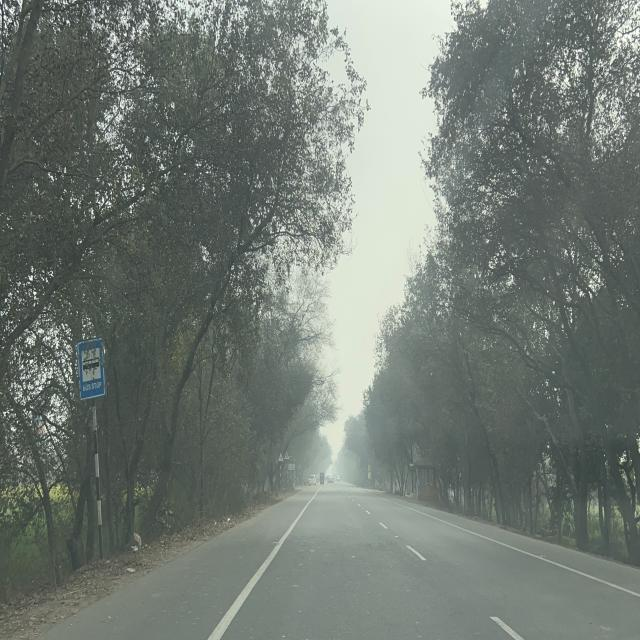INFORMATION: (76, 336, 106, 401)
